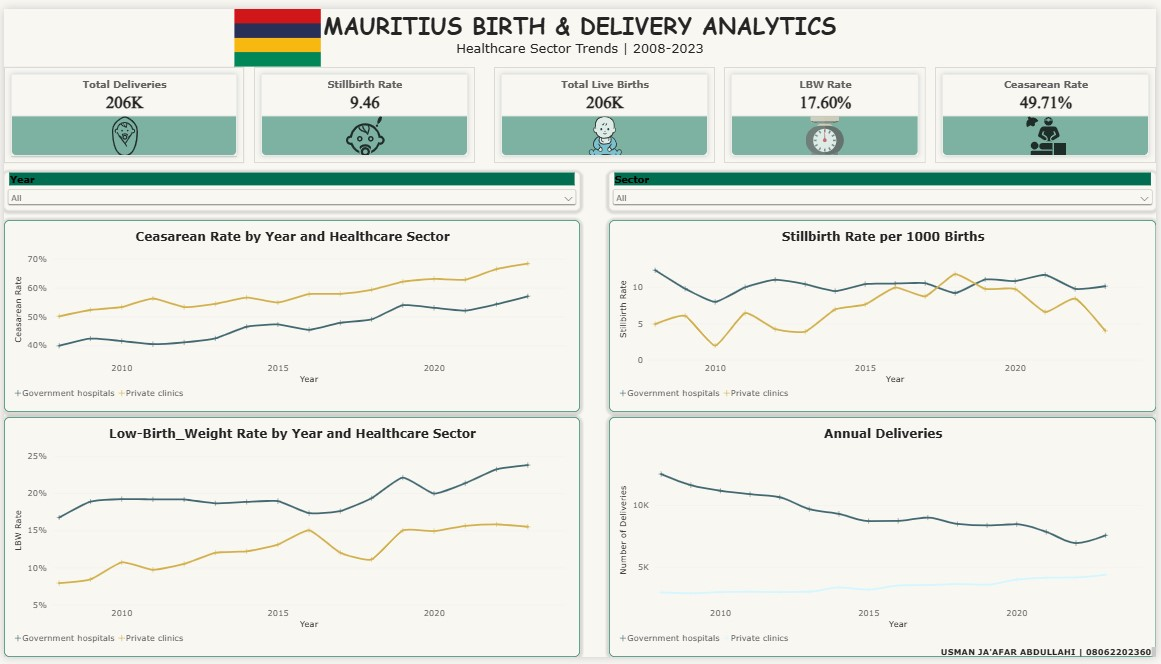

What the dashboard file says about the page in this screenshot:
{"tool":"powerbi","page":{"name":"Page 1","canvas":[1920,1080],"ordinal":0},"visuals":[{"type":"cardVisual","fields":{"Data":["mauritius_birth_statistics_analysis.Total Deliveries"]},"box":[0,96,400,160],"z":0},{"type":"cardVisual","fields":{"Data":["mauritius_birth_statistics_analysis.Total Live Births"]},"box":[816,96,368,160],"z":1000},{"type":"cardVisual","fields":{"Data":["mauritius_birth_statistics_analysis.Ceasarean Rate"]},"box":[1552,96,368,160],"z":2000},{"type":"cardVisual","fields":{"Data":["mauritius_birth_statistics_analysis.LBW Rate"]},"box":[1200,96,336,160],"z":3000},{"type":"cardVisual","fields":{"Data":["mauritius_birth_statistics_analysis.Stillbirth Rate"]},"box":[416,96,368,160],"z":4000},{"type":"slicer","fields":{"Values":["mauritius_birth_statistics_analysis.Year"]},"box":[0,272,960,64],"z":5000},{"type":"lineChart","title":"Annual Deliveries","fields":{"Category":["mauritius_birth_statistics_analysis.Year"],"Series":["mauritius_birth_statistics_analysis.Sector"],"Y":["Sum(mauritius_birth_statistics_analysis.Deliveries)"]},"box":[1008,680,912,400],"z":6000},{"type":"lineChart","title":"Ceasarean Rate by Year and Healthcare Sector","fields":{"Category":["mauritius_birth_statistics_analysis.Year"],"Series":["mauritius_birth_statistics_analysis.Sector"],"Y":["mauritius_birth_statistics_analysis.Ceasarean Rate"]},"box":[0,352,960,320],"z":7000},{"type":"lineChart","title":"Low-Birth_Weight Rate by Year and Healthcare Sector","fields":{"Category":["mauritius_birth_statistics_analysis.Year"],"Series":["mauritius_birth_statistics_analysis.Sector"],"Y":["mauritius_birth_statistics_analysis.LBW Rate"]},"box":[0,680,960,400],"z":8000},{"type":"lineChart","title":"Stillbirth Rate per 1000 Births ","fields":{"Category":["mauritius_birth_statistics_analysis.Year"],"Series":["mauritius_birth_statistics_analysis.Sector"],"Y":["mauritius_birth_statistics_analysis.Stillbirth Rate"]},"box":[1008,352,912,320],"z":9000},{"type":"slicer","fields":{"Values":["mauritius_birth_statistics_analysis.Sector"]},"box":[1008,272,912,64],"z":10000},{"type":"textbox","box":[0,0,1920,80],"z":11000},{"type":"image","box":[0,0,912,96],"z":12000},{"type":"textbox","box":[976,1064,944,16],"z":13000}]}

Visuals, with their boxes in screenshot pixels (x1, y1, x2, y2), scaled from the page's 1920x1080 canvas onto the 1161x664 screenshot:
cardVisual - mauritius_birth_statistics_analysis.Total Deliveries: <bbox>0, 59, 242, 157</bbox>
cardVisual - mauritius_birth_statistics_analysis.Total Live Births: <bbox>493, 59, 716, 157</bbox>
cardVisual - mauritius_birth_statistics_analysis.Ceasarean Rate: <bbox>938, 59, 1160, 157</bbox>
cardVisual - mauritius_birth_statistics_analysis.LBW Rate: <bbox>726, 59, 929, 157</bbox>
cardVisual - mauritius_birth_statistics_analysis.Stillbirth Rate: <bbox>252, 59, 474, 157</bbox>
slicer - mauritius_birth_statistics_analysis.Year: <bbox>0, 167, 580, 207</bbox>
"Annual Deliveries" lineChart: <bbox>610, 418, 1160, 663</bbox>
"Ceasarean Rate by Year and Healthcare Sector" lineChart: <bbox>0, 216, 580, 413</bbox>
"Low-Birth_Weight Rate by Year and Healthcare Sector" lineChart: <bbox>0, 418, 580, 663</bbox>
"Stillbirth Rate per 1000 Births " lineChart: <bbox>610, 216, 1160, 413</bbox>
slicer - mauritius_birth_statistics_analysis.Sector: <bbox>610, 167, 1160, 207</bbox>
textbox: <bbox>0, 0, 1160, 49</bbox>
image: <bbox>0, 0, 551, 59</bbox>
textbox: <bbox>590, 654, 1160, 663</bbox>
